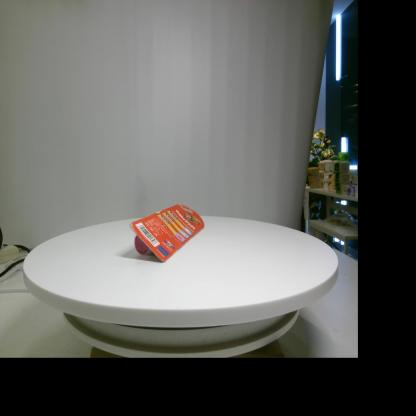Personal Hygiene: (130, 204, 204, 262)
